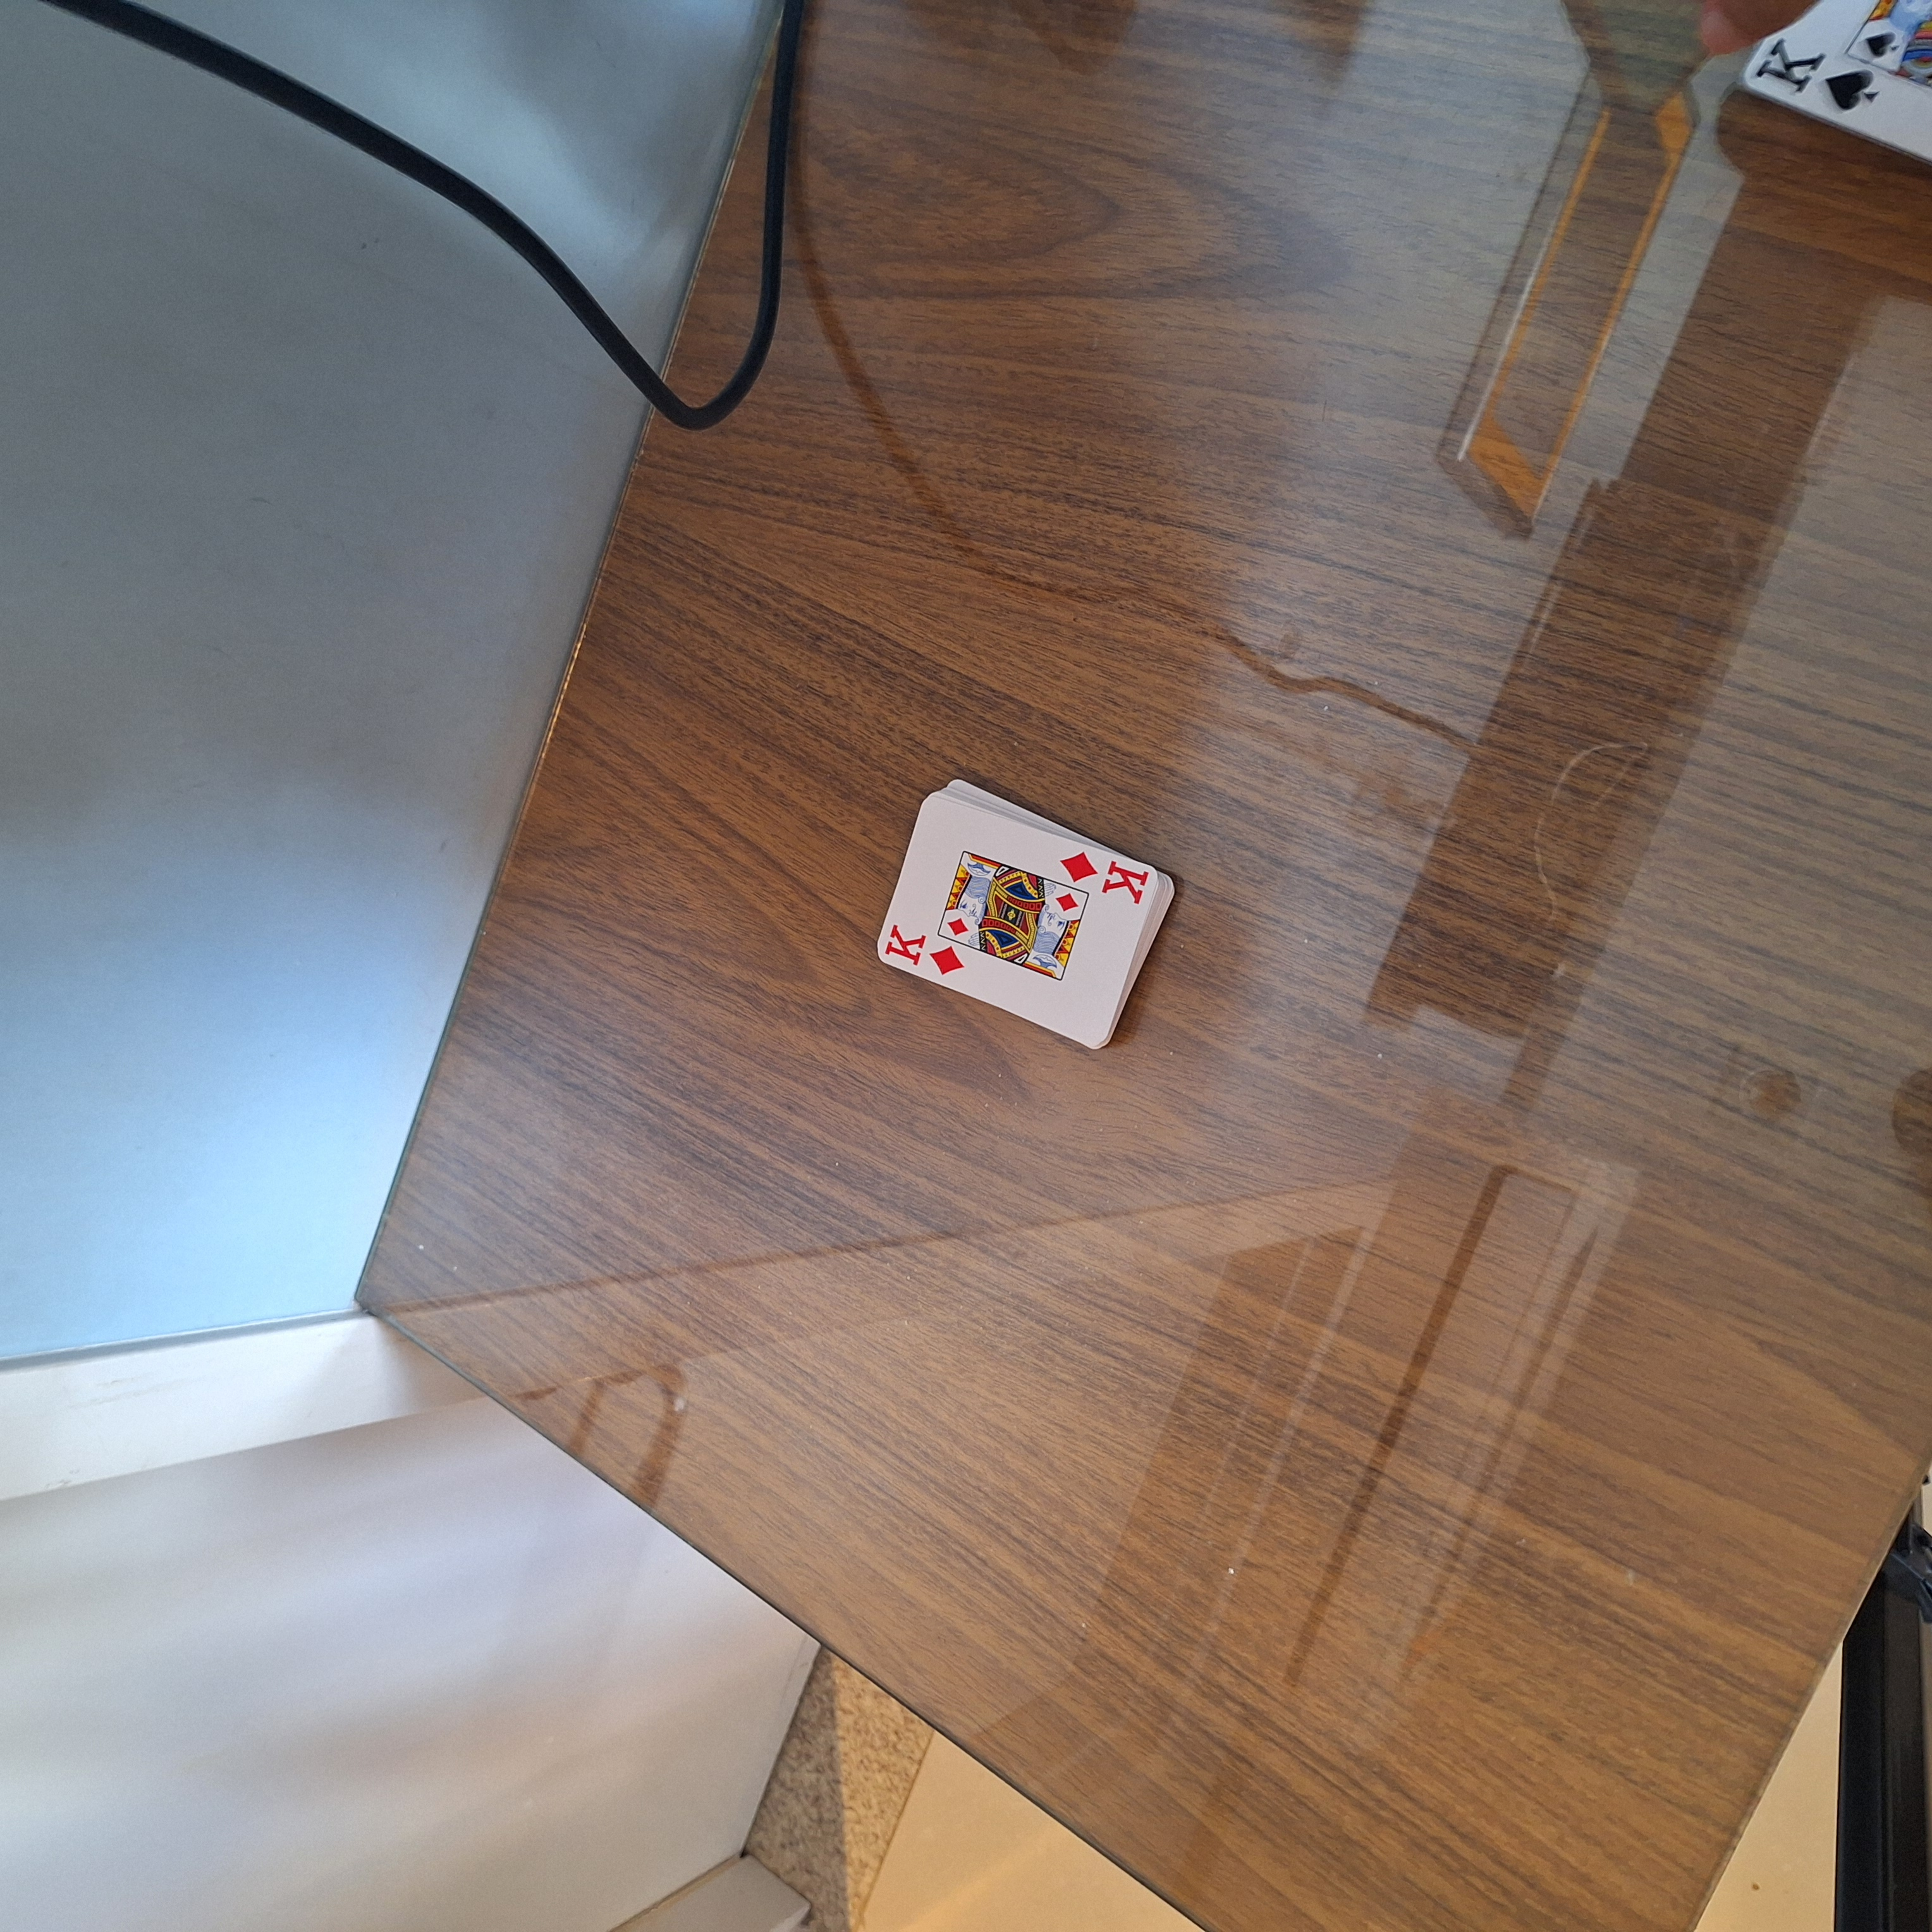KO: (878, 916, 968, 993), (1053, 846, 1155, 908)
